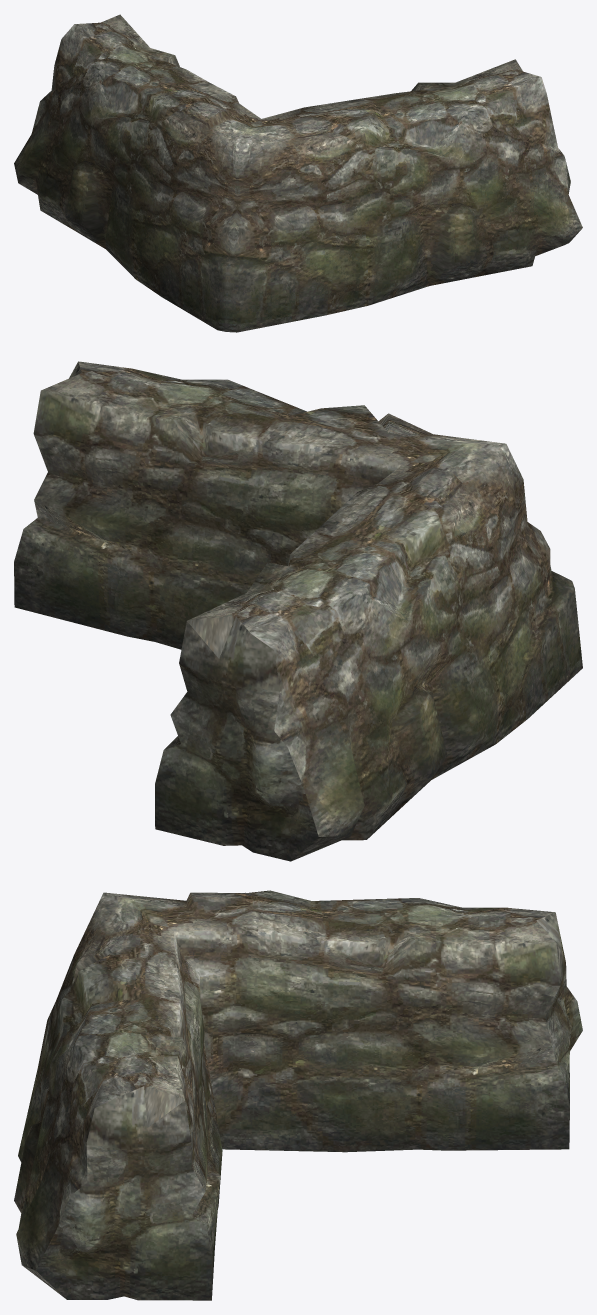
File: shrine_rock_08.fbx
The picture shows the model from 3 angles, top to bottom: view 1: azimuth 30°, elevation 25°; view 2: azimuth 150°, elevation 25°; view 3: azimuth 270°, elevation 25°; orthographic projection. The views are drawn at different scales.
Visible parts, largest first — view 1: Shrine_rock_08; view 2: Shrine_rock_08; view 3: Shrine_rock_08.
Part boxes in pixels (left/top/right/bottom): Shrine_rock_08: left=14, top=14, right=582, bottom=332; Shrine_rock_08: left=14, top=361, right=582, bottom=861; Shrine_rock_08: left=14, top=890, right=582, bottom=1300.
Bounding box in the file's own units: 8.82 × 3.71 × 8.82.
